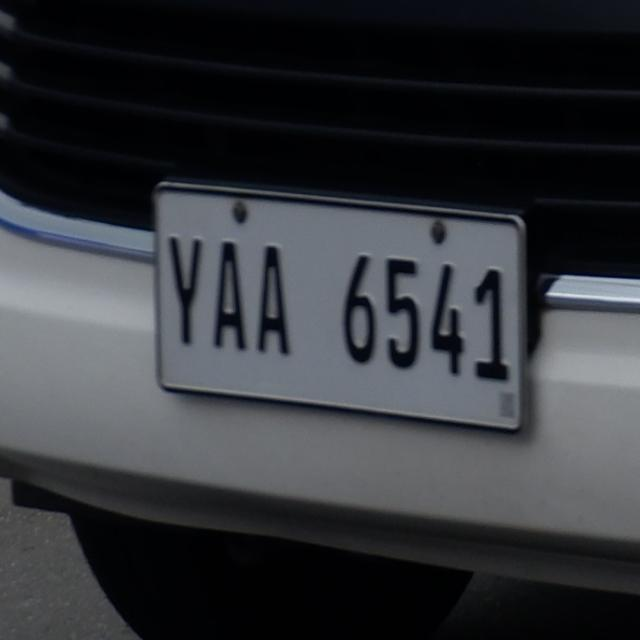LicensePlate: (145, 178, 532, 434)
